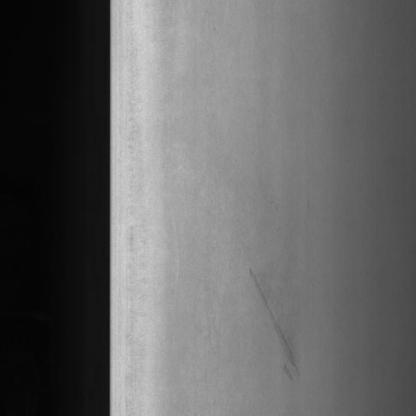water_spot: (246, 248, 308, 394)
